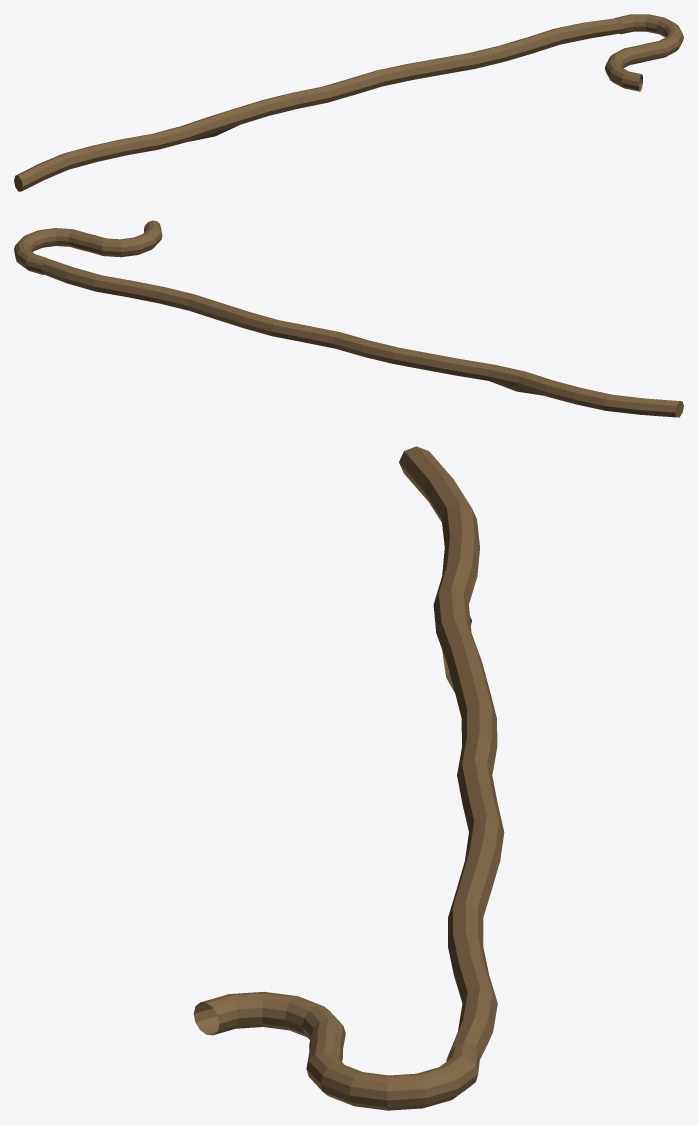
The model's file is Rope.fbx.
The picture shows the model from 3 angles, top to bottom: view 1: azimuth 30°, elevation 25°; view 2: azimuth 150°, elevation 25°; view 3: azimuth 270°, elevation 25°; orthographic projection. The views are drawn at different scales.
Visible parts, largest first — view 1: Cylinder; view 2: Cylinder; view 3: Cylinder.
Part boxes in pixels (bbox=[...]): Cylinder: bbox=[14, 14, 683, 191]; Cylinder: bbox=[14, 220, 683, 417]; Cylinder: bbox=[193, 446, 504, 1110].
Size of the model in its own units: 2136 by 50 by 439.
